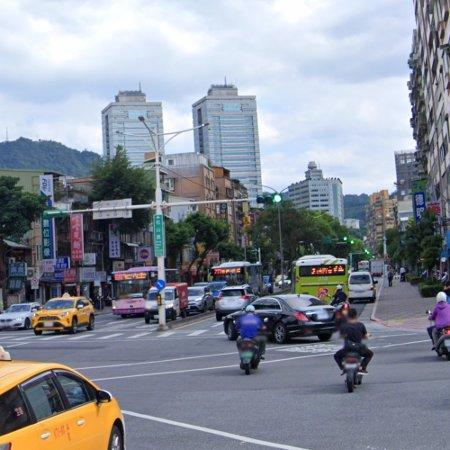taxis: (0, 347, 125, 450), (32, 297, 95, 334)
